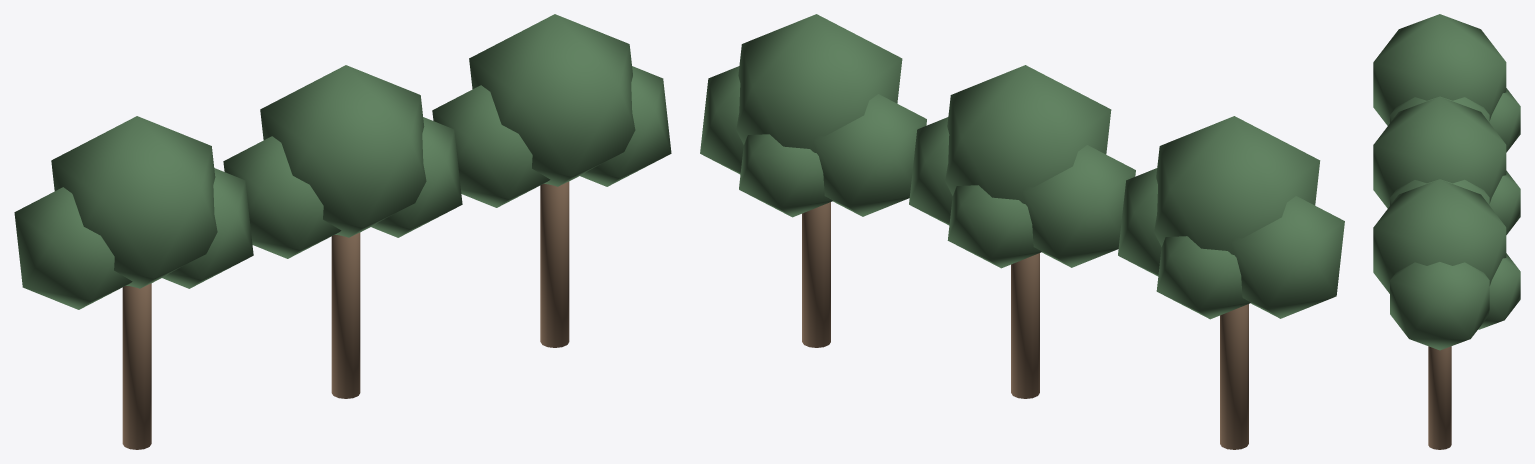
Rendered from trees.glb.
3 renders of one model, left to right at view 1: azimuth 30°, elevation 25°; view 2: azimuth 150°, elevation 25°; view 3: azimuth 270°, elevation 25°, orthographic. The views are drawn at different scales.
Parts seen in each view (by area): view 1: Tree_03, Tree_01, Tree_02; view 2: Tree_03, Tree_02, Tree_01; view 3: Tree_01, Tree_02, Tree_03.
Boxes of the visible parts, box(x1,y1,x2,y2) form: Tree_03: box(14, 116, 253, 449); Tree_01: box(432, 14, 671, 347); Tree_02: box(223, 65, 462, 398); Tree_03: box(1118, 116, 1344, 449); Tree_02: box(909, 65, 1135, 398); Tree_01: box(700, 14, 926, 347); Tree_01: box(1373, 179, 1520, 449); Tree_02: box(1373, 96, 1520, 234); Tree_03: box(1373, 14, 1520, 152).
Bounding box in the file's own units: 6.07 × 3 × 1.51.
